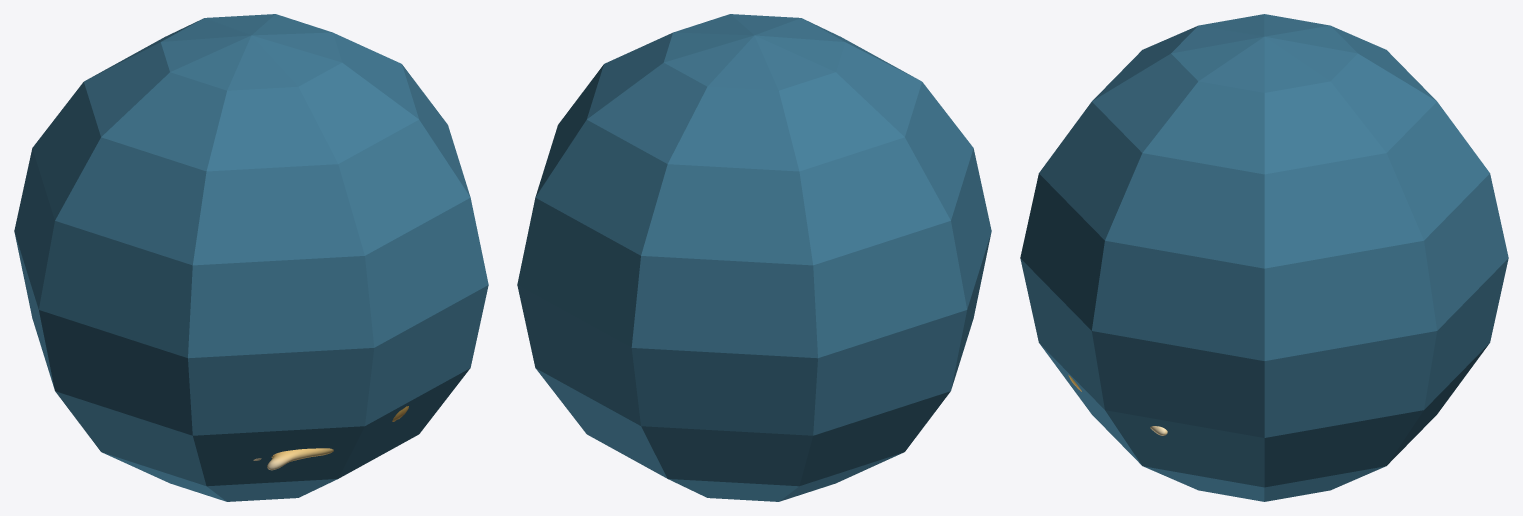
Rendered from Frog1OrbGlass.glb.
The picture shows the model from 3 angles, left to right: view 1: azimuth 30°, elevation 25°; view 2: azimuth 150°, elevation 25°; view 3: azimuth 270°, elevation 25°; orthographic projection.
Visible parts, largest first — view 1: CryoOrbFrog.001; view 2: CryoOrbFrog.001; view 3: CryoOrbFrog.001.
Boxes of the visible parts, x1,y1,x2,y2 form: CryoOrbFrog.001: [14, 14, 488, 501]; CryoOrbFrog.001: [517, 14, 991, 501]; CryoOrbFrog.001: [1020, 14, 1508, 501].
Size of the model in its own units: 0.4 by 0.4 by 0.4.
2 materials, 2 textured.
